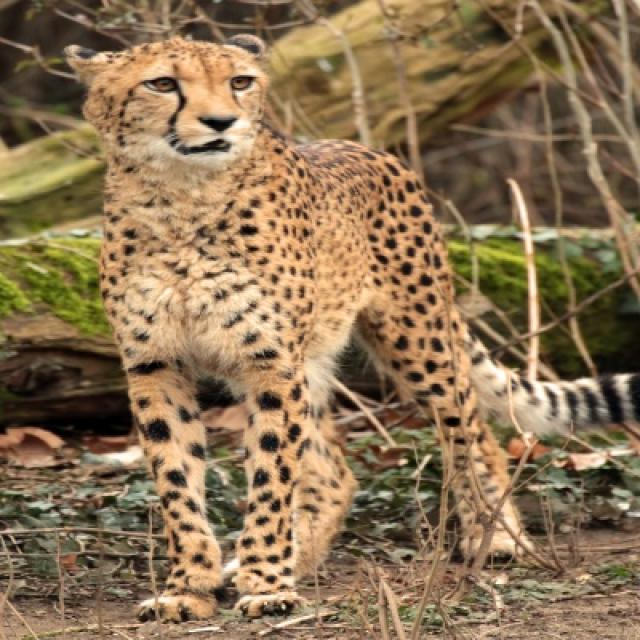Cheetah: (62, 37, 536, 622)
